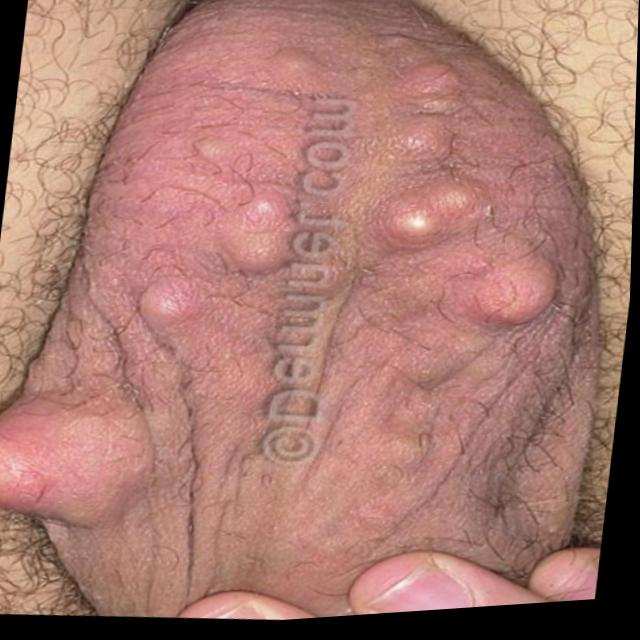Eczema: (0, 27, 547, 560)
